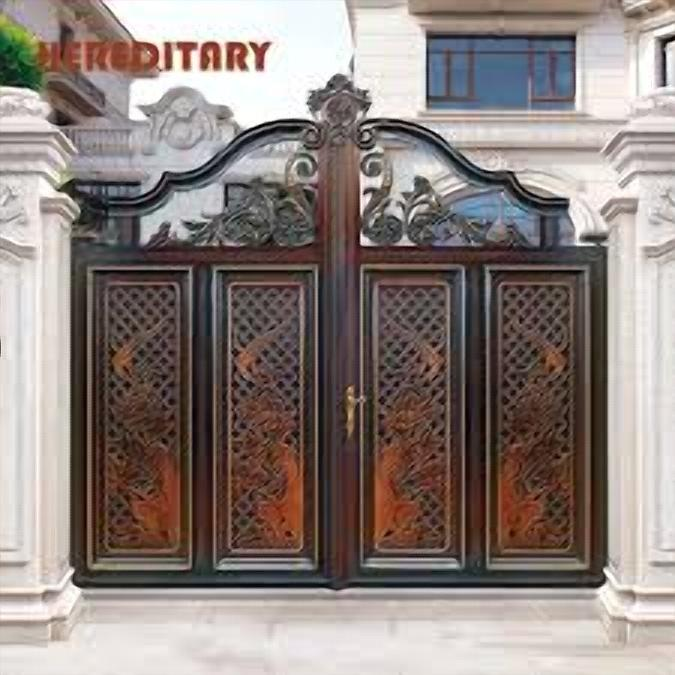Gate: (68, 71, 609, 592)
Window-without-grill: (427, 32, 579, 110), (441, 190, 574, 253)
